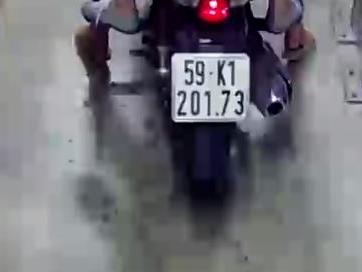num_plate: (171, 54, 249, 121)
